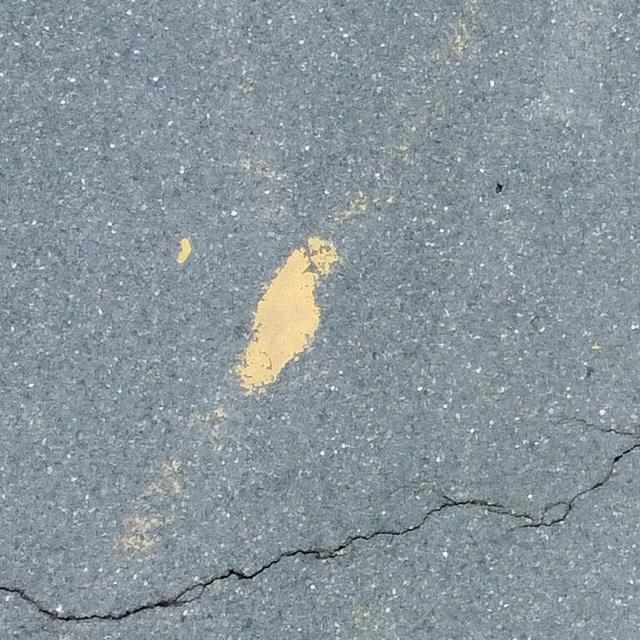TransverseCrack: (1, 427, 639, 624)
